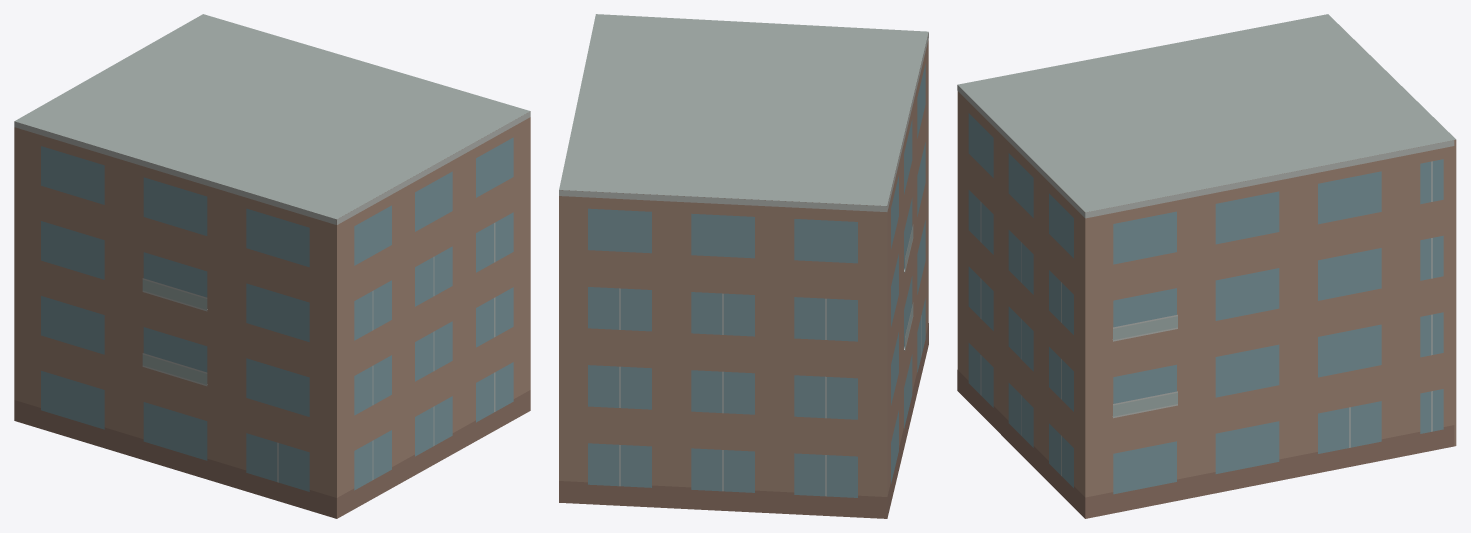
File: survey-upis-32732795.glb
3 renders of one model, left to right at view 1: azimuth 30°, elevation 25°; view 2: azimuth 150°, elevation 25°; view 3: azimuth 270°, elevation 25°, orthographic. The views are drawn at different scales.
Visible parts, largest first — view 1: survey-upis-32732795.tmp; view 2: survey-upis-32732795.tmp; view 3: survey-upis-32732795.tmp.
Boxes of the visible parts, bbox=[...] form: survey-upis-32732795.tmp: bbox=[14, 14, 530, 518]; survey-upis-32732795.tmp: bbox=[559, 14, 928, 518]; survey-upis-32732795.tmp: bbox=[957, 14, 1456, 518].
Size of the model in its own units: 17.45 by 12.55 by 18.53.
